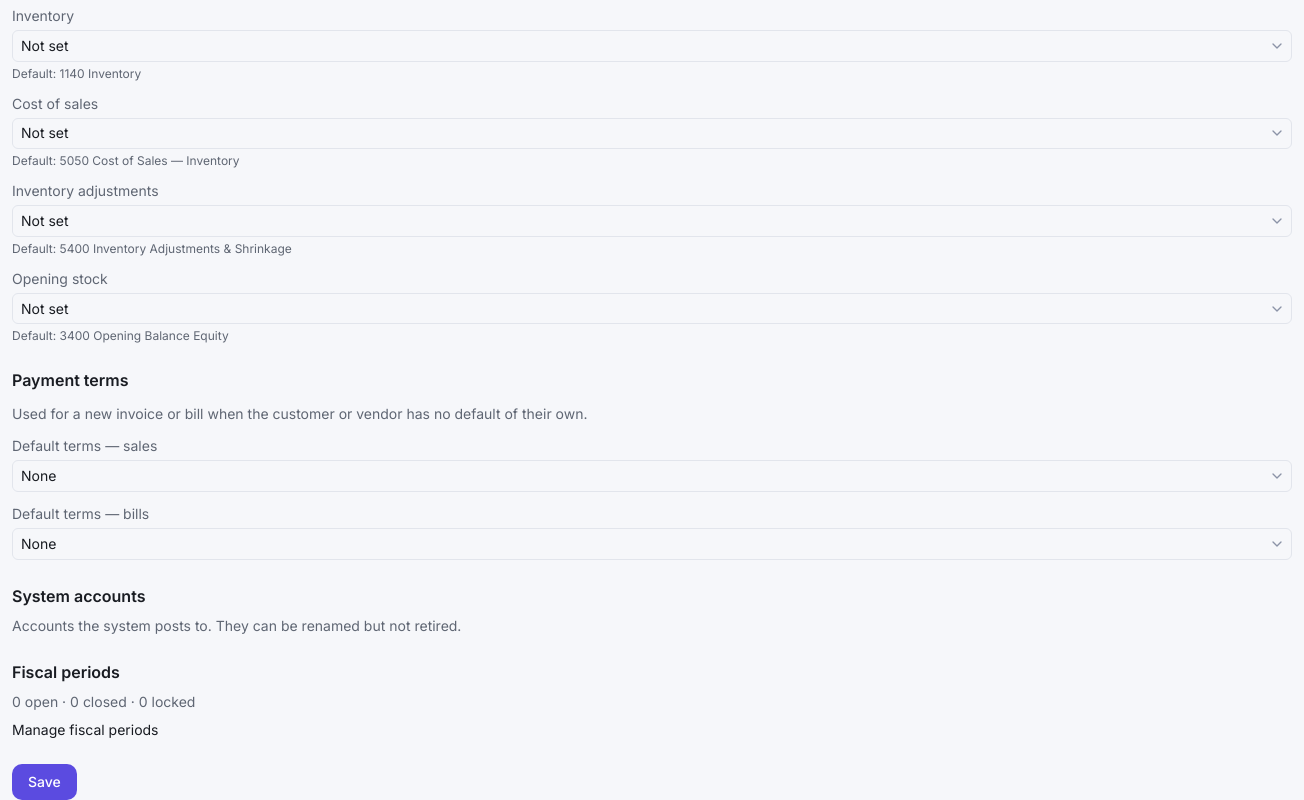
Scenario: FinancialSettingsPage › shows the onboarding message and a link to the wizard on a 409
(page scrolled)
Click the button "Save": [44, 782] box [12,764,77,799]
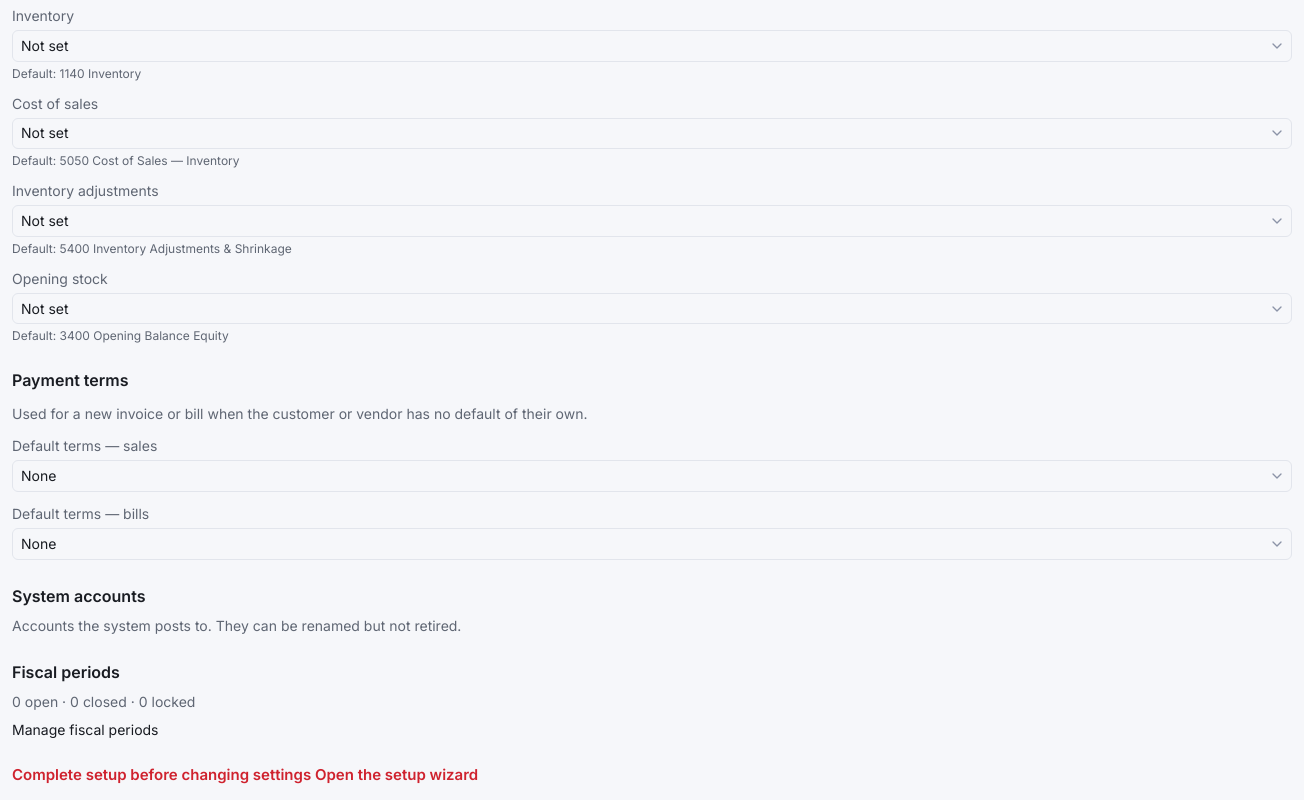
expect the text "Complete setup before changing settings" is shown: met, box [12,764,311,784]
expect the link "Open the setup wizard" is shown: met, box [315,764,478,784]
